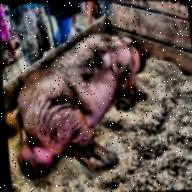boar: (1, 27, 156, 178)
